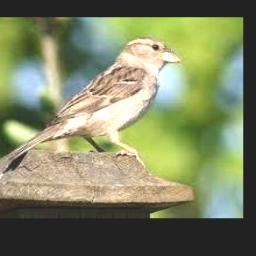Sparrow: (9, 38, 180, 163)
